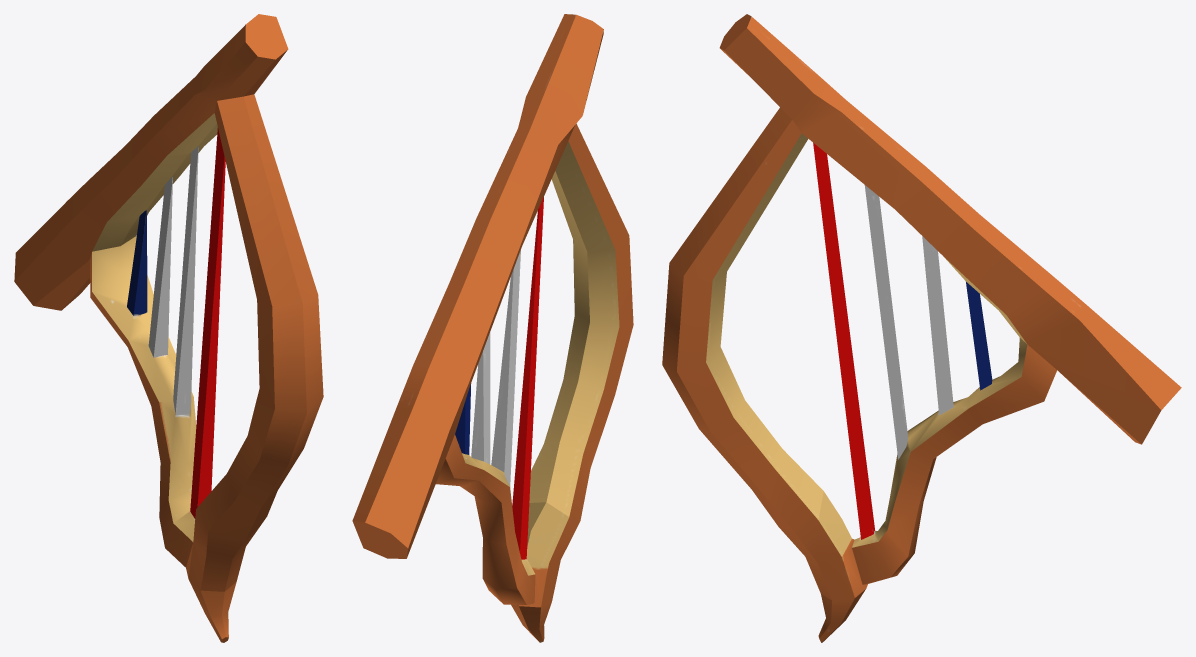
The model's file is Arpa3_000005.obj.
3 renders of one model, left to right at view 1: azimuth 30°, elevation 25°; view 2: azimuth 150°, elevation 25°; view 3: azimuth 270°, elevation 25°, orthographic. The views are drawn at different scales.
Parts seen in each view (by area): view 1: a3_Arpa_1:pCube6; view 2: a3_Arpa_1:pCube6; view 3: a3_Arpa_1:pCube6.
Boxes of the visible parts, x1,y1,x2,y2 form: a3_Arpa_1:pCube6: (14,14,323,642); a3_Arpa_1:pCube6: (352,14,633,642); a3_Arpa_1:pCube6: (662,14,1181,642).
Bounding box in the file's own units: 0.9565 × 9.67 × 7.28.
